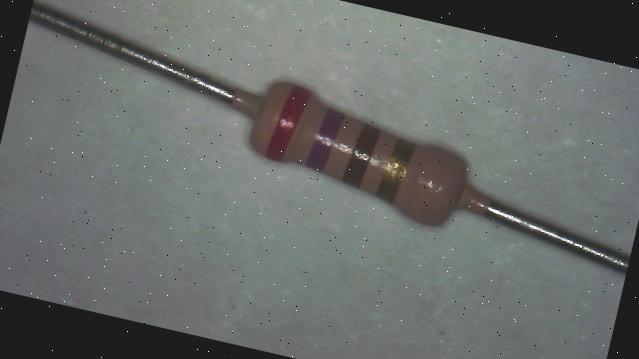brown: (341, 122, 379, 189)
gold: (375, 136, 414, 204)
red: (264, 82, 310, 164)
resistor: (219, 53, 496, 263)
violet: (304, 107, 344, 173)
